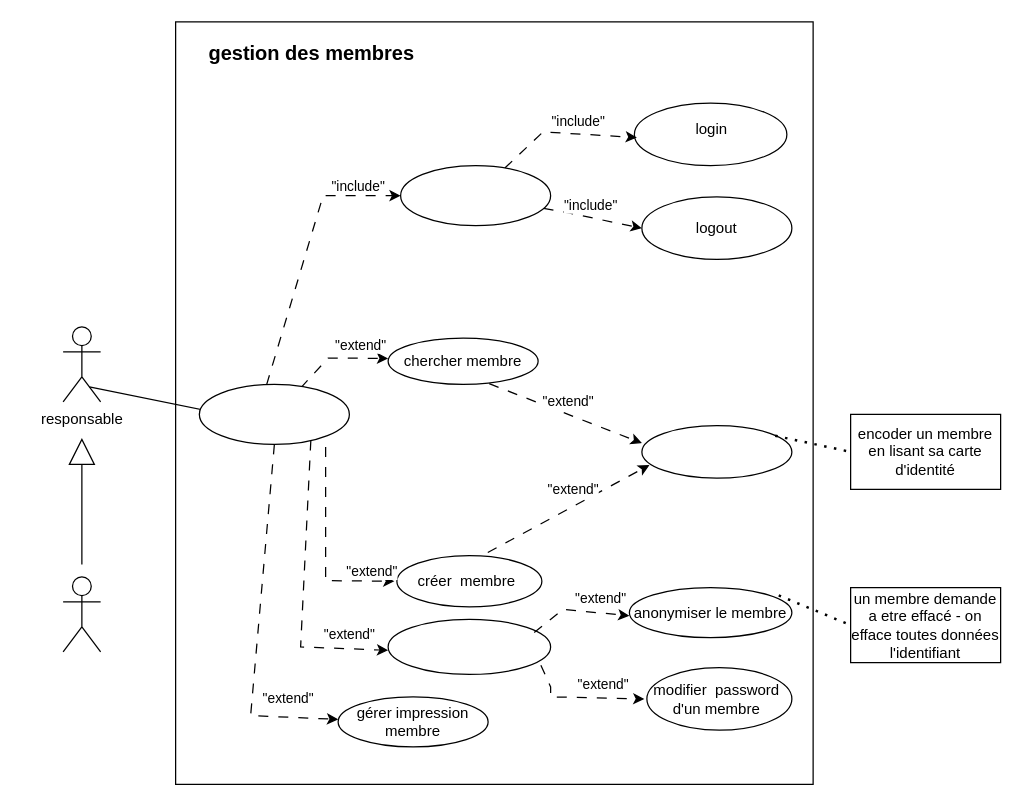
The diagram is 1023 pixels wide and 806 high, and some of its shapes have lost their labels. The shapes that lost their labels are listed below. From the top down, each one's centre as x and y in pixels, then its label:
At point 475,195: "authentifier".
At point 273,413: "gérer les membres".
At point 716,451: "lire carte d'identitité".
At point 81,614: "Assistante sociale".
At point 469,646: "modifier membre".
